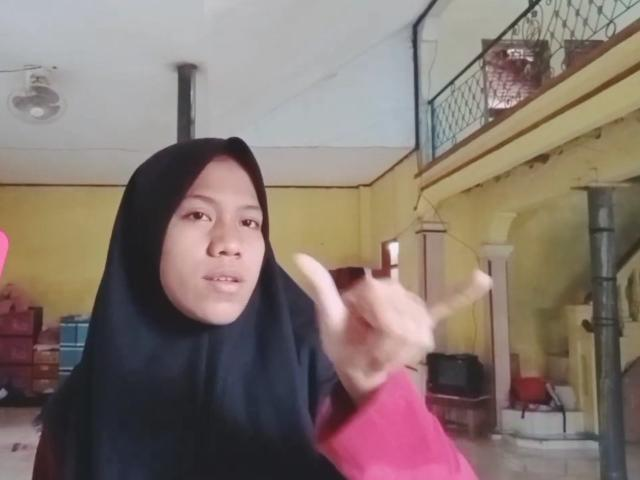Y: (290, 247, 494, 383)
